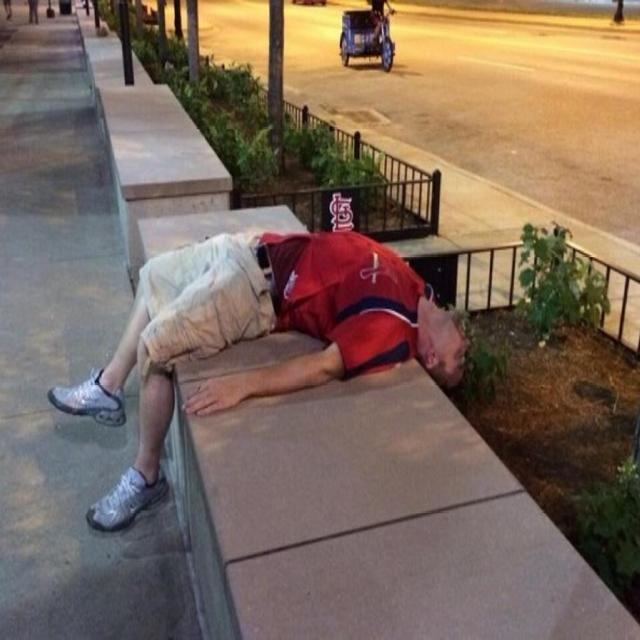nomask: (425, 304, 473, 391)
